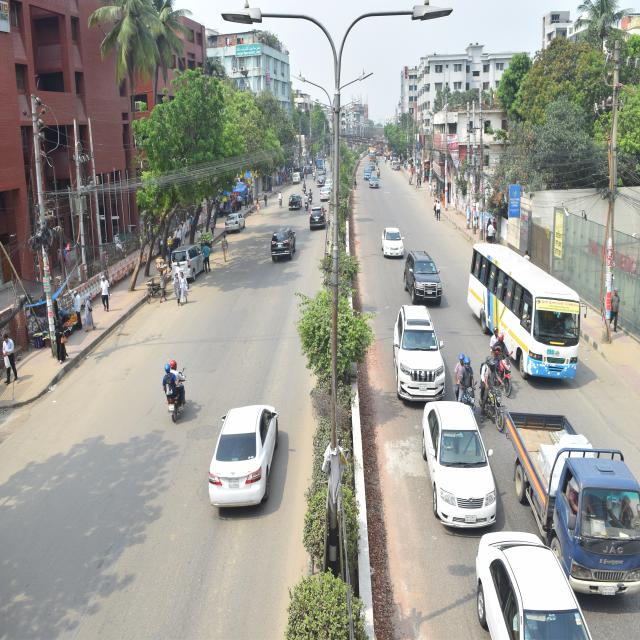bus: (466, 230, 584, 385)
car: (462, 529, 592, 640), (408, 390, 501, 526), (203, 391, 283, 520), (376, 215, 408, 261), (264, 222, 297, 266), (309, 199, 329, 233), (224, 203, 245, 235), (284, 187, 301, 213), (319, 180, 331, 202), (369, 172, 380, 191)
microbus: (392, 303, 452, 402), (401, 245, 456, 313), (168, 242, 206, 285)
motorbike: (157, 372, 190, 424), (488, 342, 516, 401), (479, 376, 505, 438), (453, 373, 479, 414)
pickup-van: (498, 400, 640, 611)
